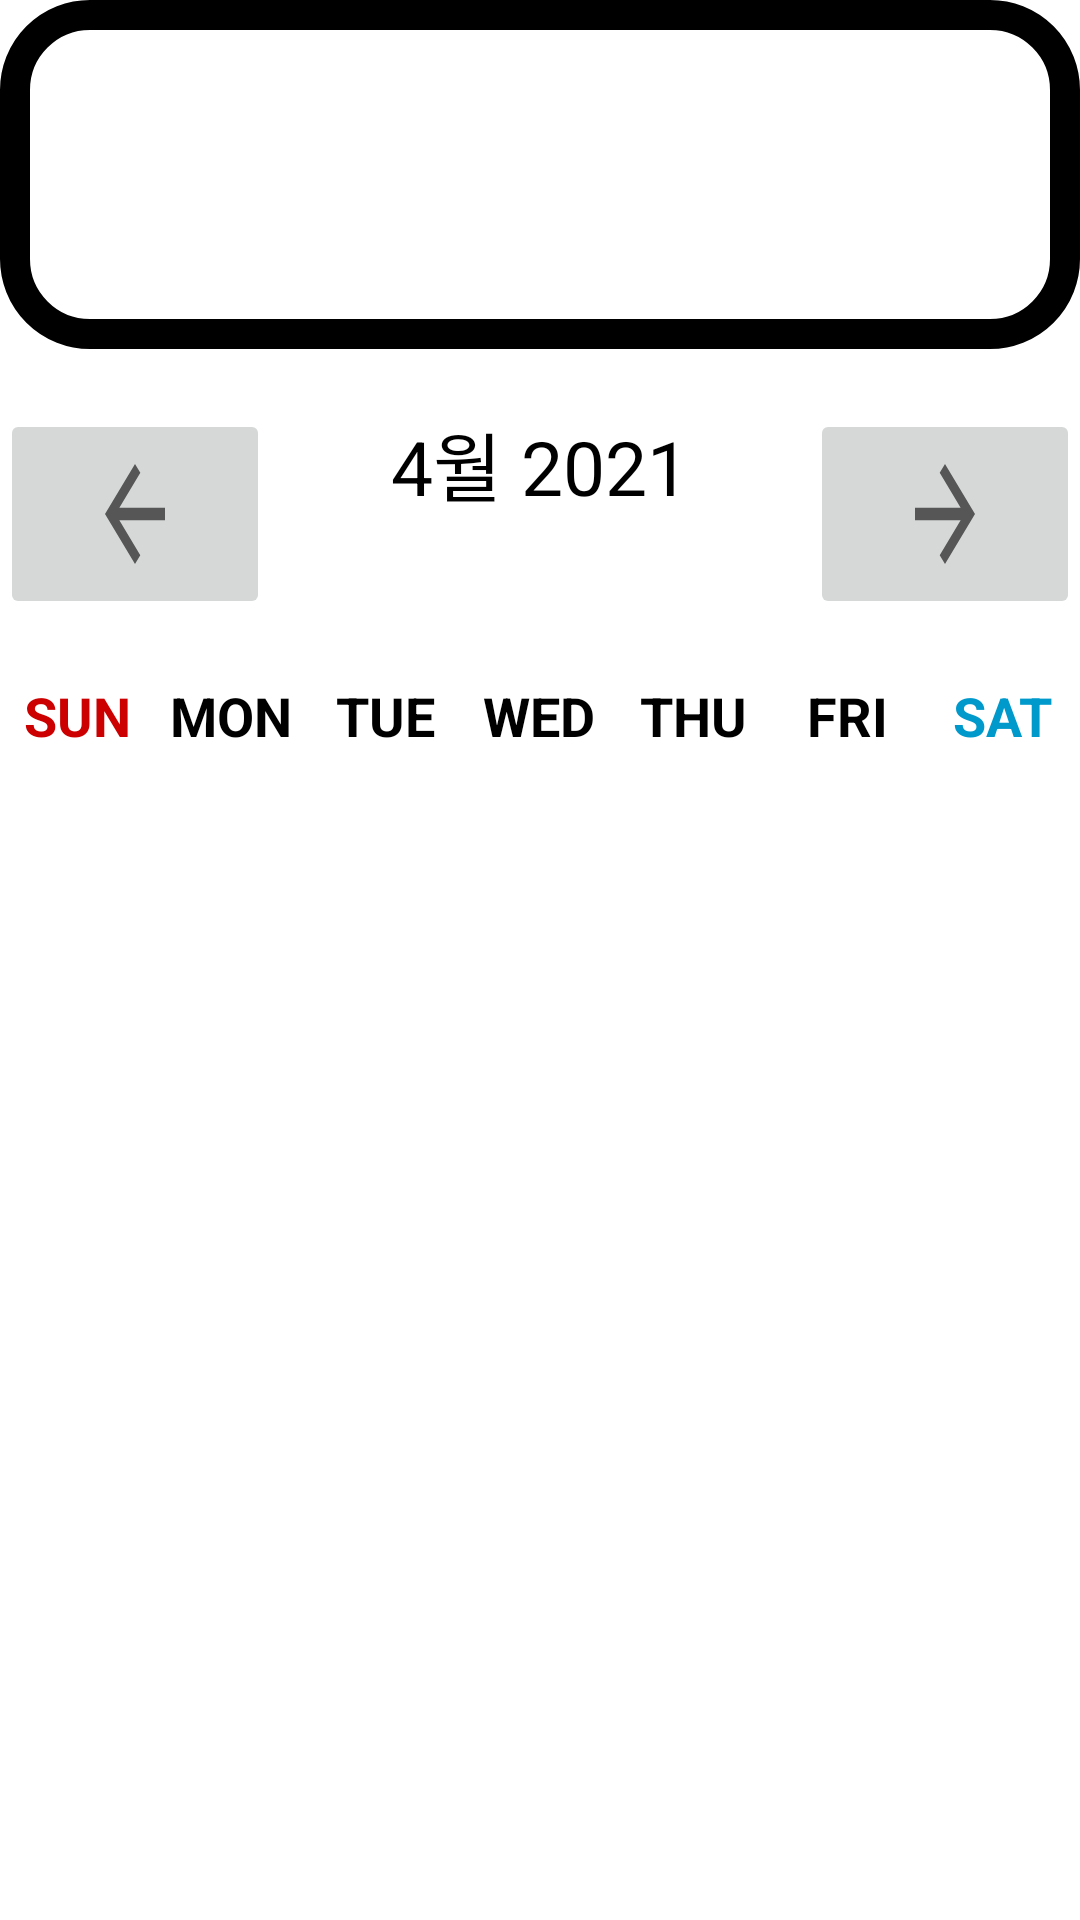

Screen size 1080×1920. Icon name, then its box in pixels as (x1, y1, x2, y2):
next: (822, 427, 1068, 601)
previous: (12, 427, 258, 601)
